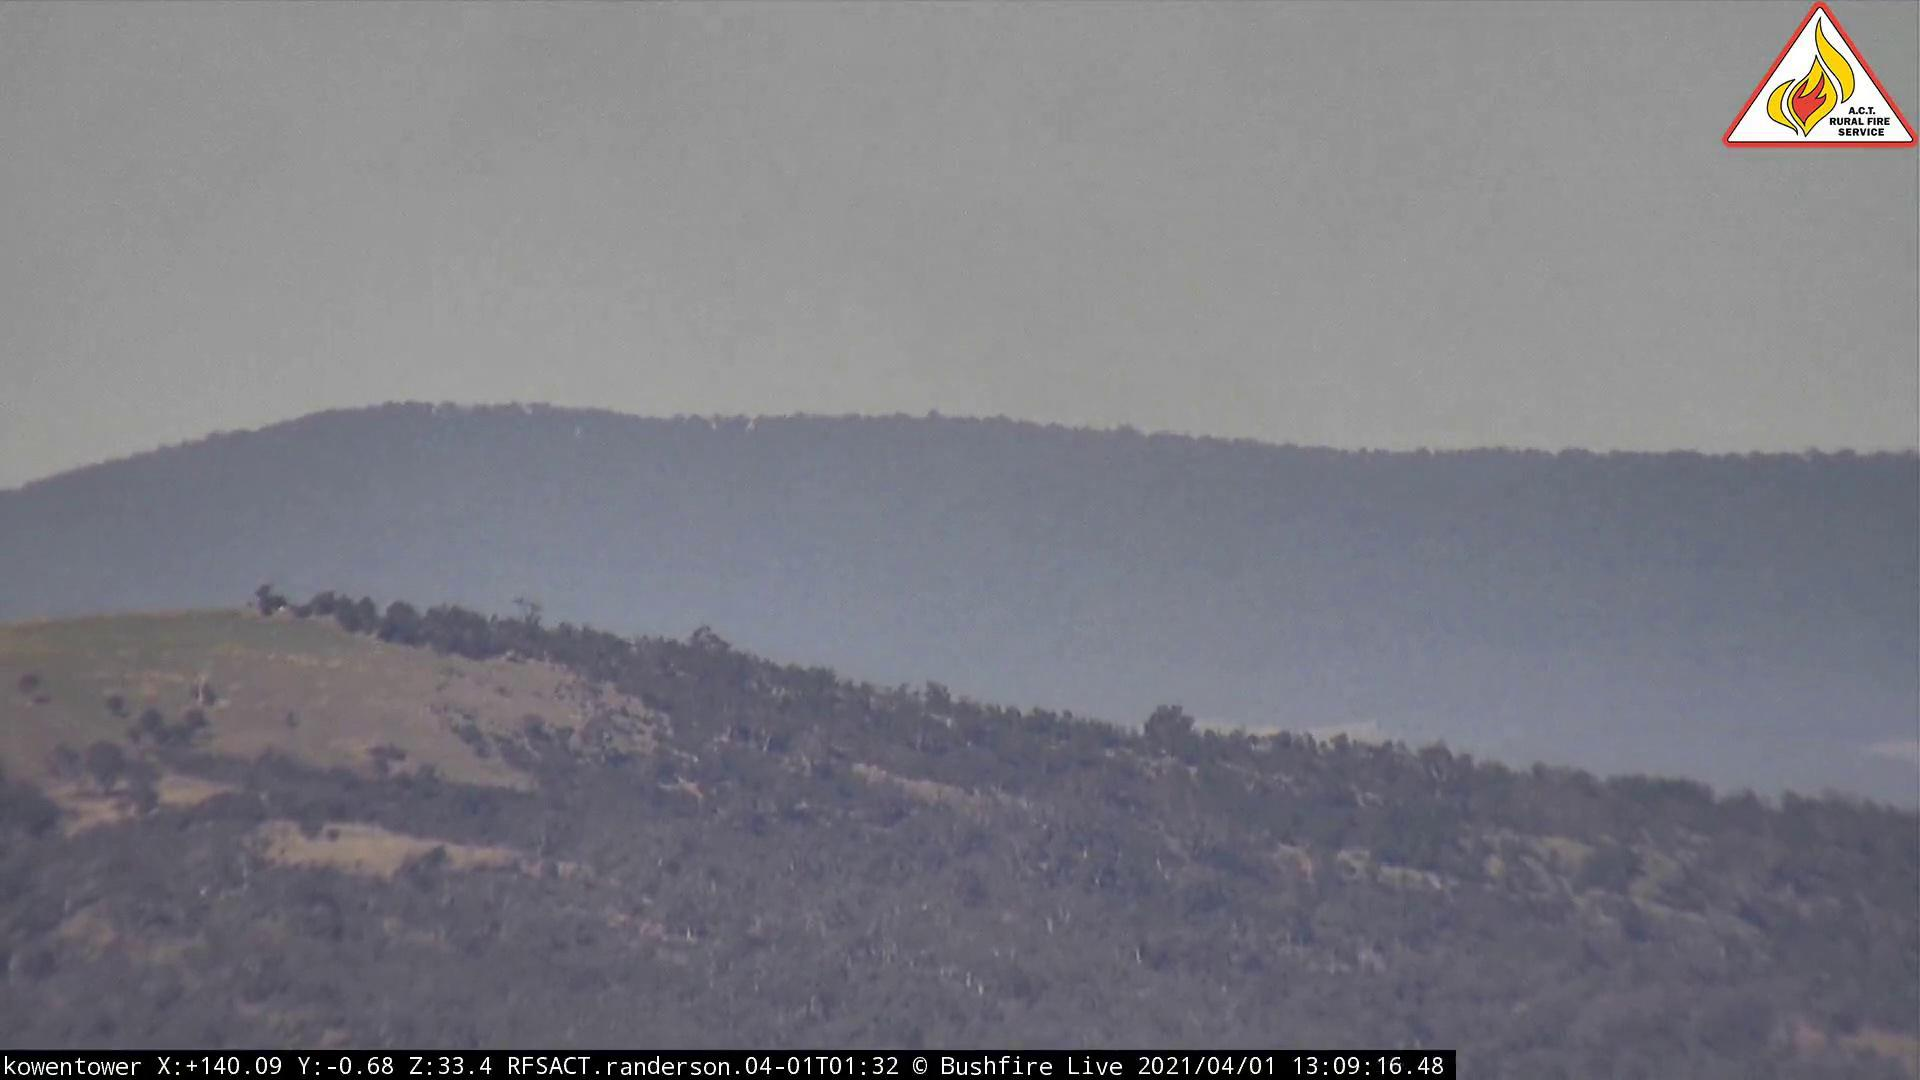Smoke: (235, 3, 851, 291)
